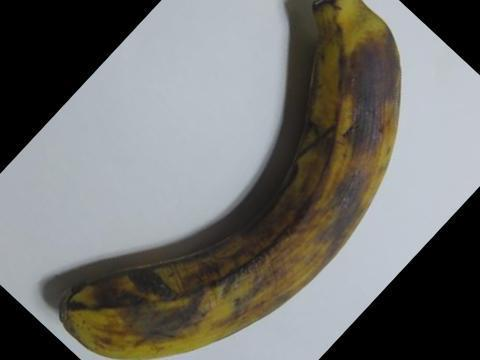rotten: (50, 0, 408, 359)
